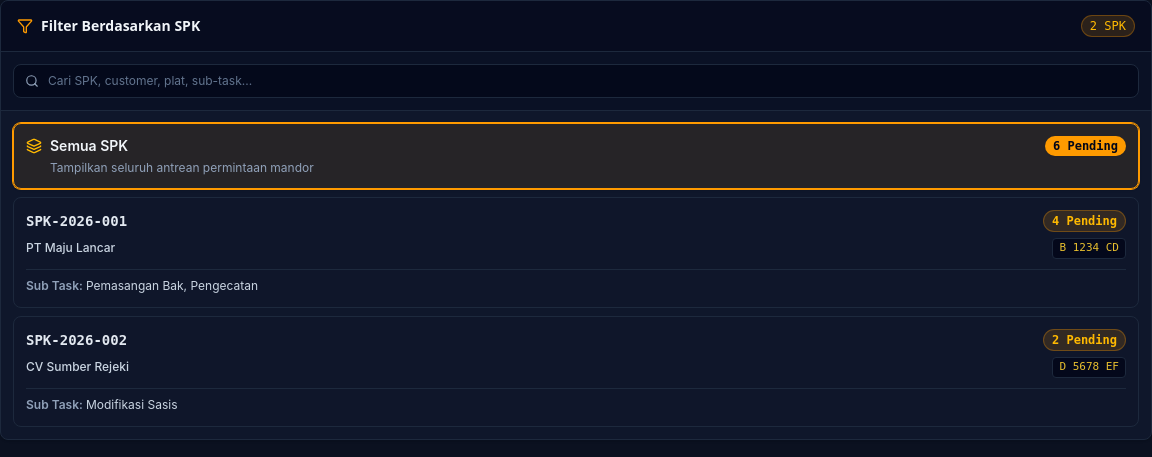
it: Component: SpkFilterListBox › shows empty state message when search query finds no matches
In the field with placeholder "Cari SPK, customer, plat, sub-task...": (576, 81) [13, 64, 1139, 98], type "NonexistentKeyword123"
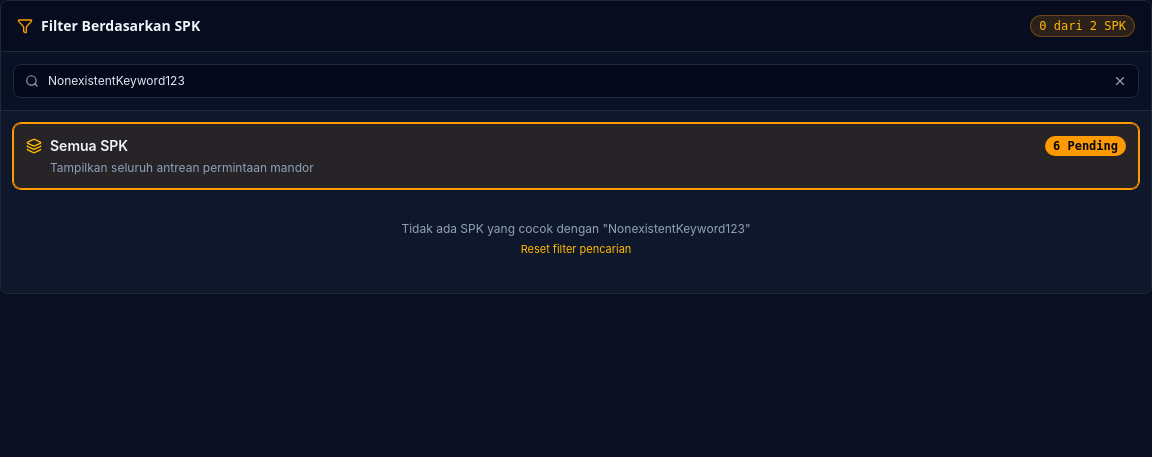
Now the text "Tidak ada SPK yang cocok dengan \"NonexistentKeyword123\"" is shown, box [402, 221, 750, 236]
